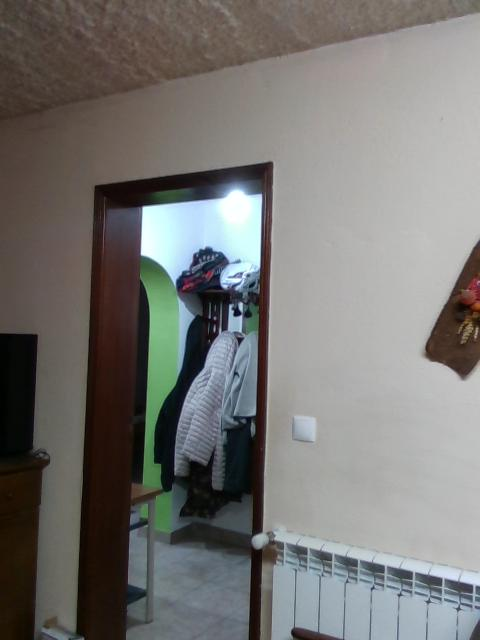open_door: (75, 156, 271, 633)
